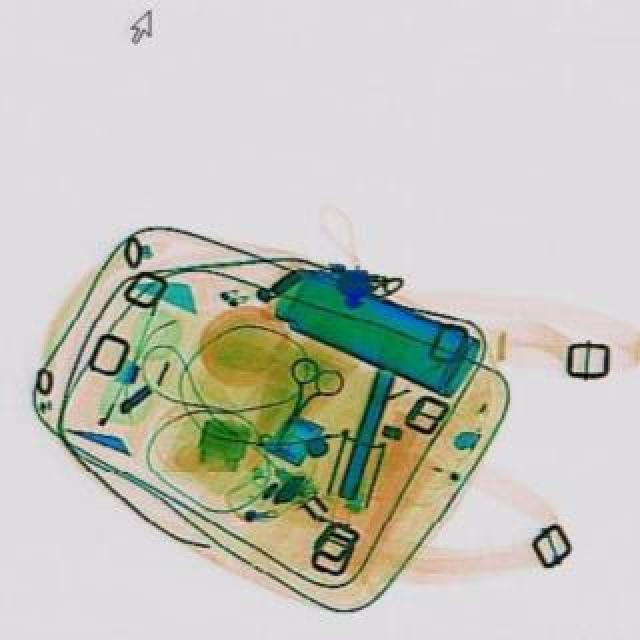pliers: (256, 350, 354, 456)
